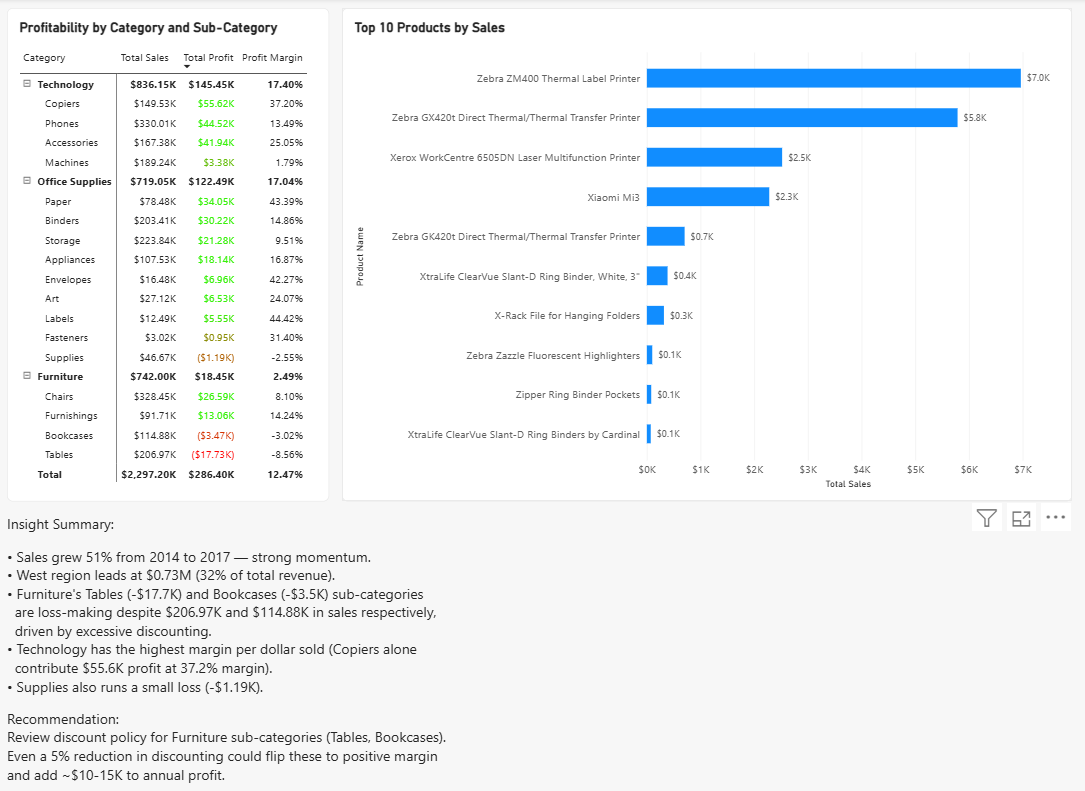

The dashboard page shown, as its layout file describes it:
{"tool":"powerbi","page":{"name":"Product Deep Dive","canvas":[1920,1080],"ordinal":2},"visuals":[{"type":"pivotTable","title":"Profitability by Category and Sub-Category","fields":{"Rows":["DimProduct.Category","DimProduct.Sub-Category"],"Values":["FactSales.Total Sales","FactSales.Total Profit","FactSales.Profit Margin"]},"box":[14,14,430,659],"z":0},{"type":"clusteredBarChart","title":"Top 10 Products by Sales","fields":{"Category":["DimProduct.Product Name"],"Y":["FactSales.Total Sales"]},"box":[461,14,975,659],"z":1000},{"type":"textbox","box":[14,690,1422,390],"z":2000}]}

Visuals, with their boxes on the page's 1920x1080 design canvas (x1, y1, x2, y2). These are canvas units, not pixel positions in the 1085x791 screenshot, which may show the page scaled, cropped or inside an application window:
"Profitability by Category and Sub-Category" pivotTable: bbox(14, 14, 444, 673)
"Top 10 Products by Sales" clusteredBarChart: bbox(461, 14, 1436, 673)
textbox: bbox(14, 690, 1436, 1080)
